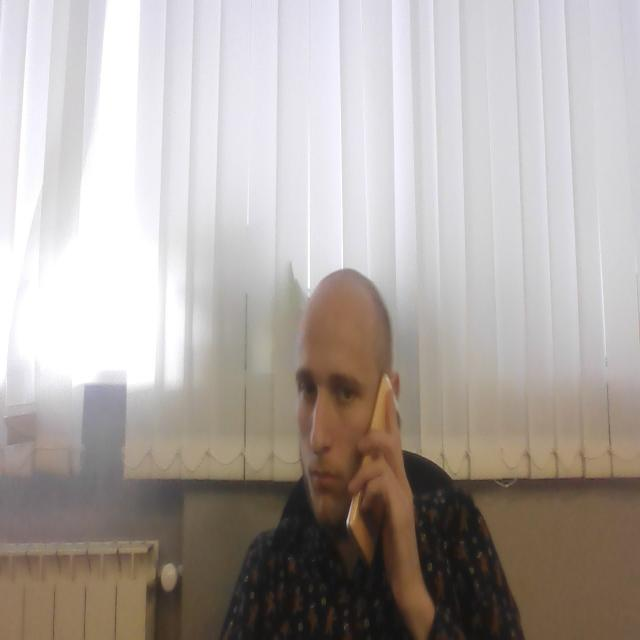phone: (345, 374, 402, 566)
